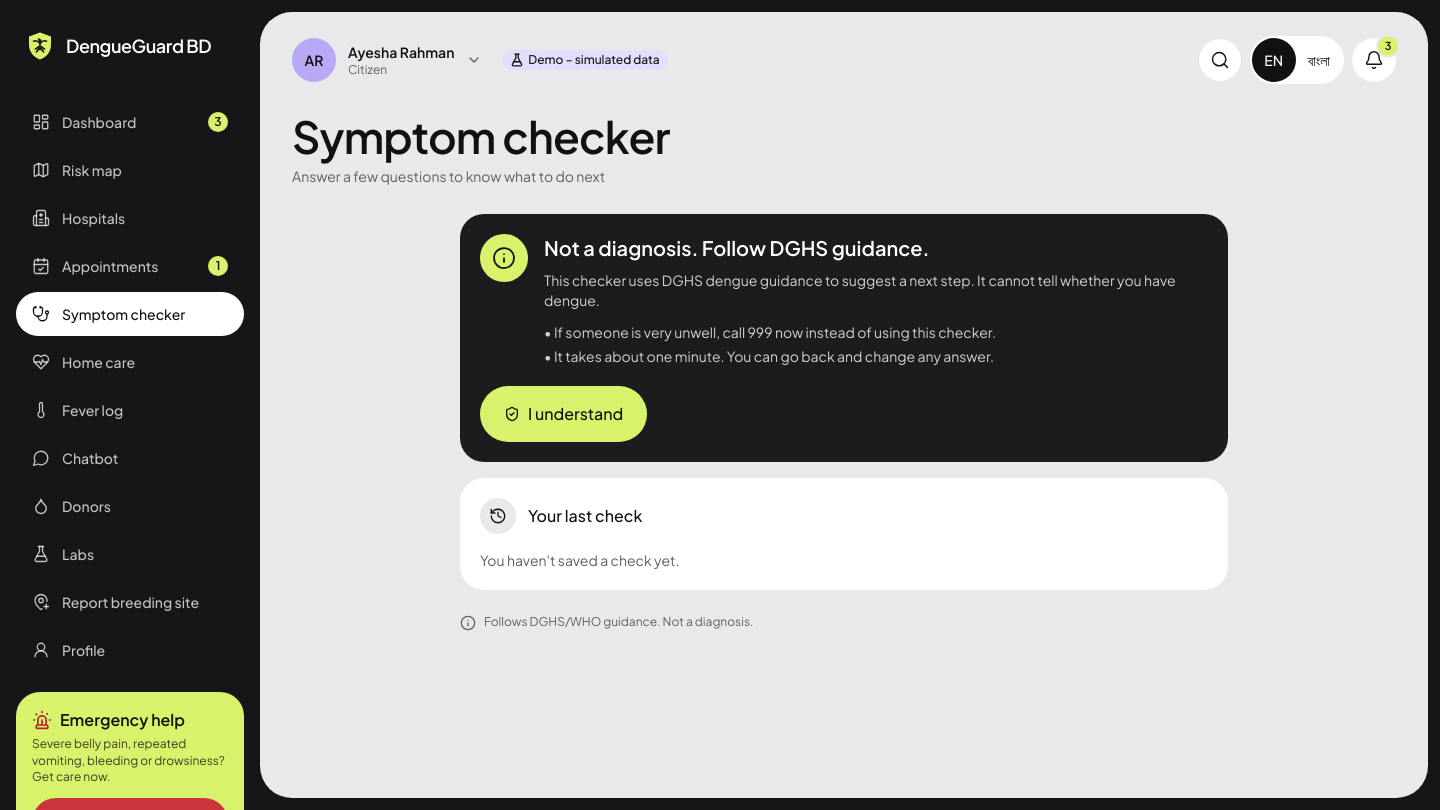
Test: Symptom checker (/symptoms) › starts with the non-diagnosis notice and shows progress with Back
Expected: the heading "Not a diagnosis. Follow DGHS guidance." is shown, [544,235,930,260]
Click the button "I understand" at (564, 414), box [480,386,647,442]
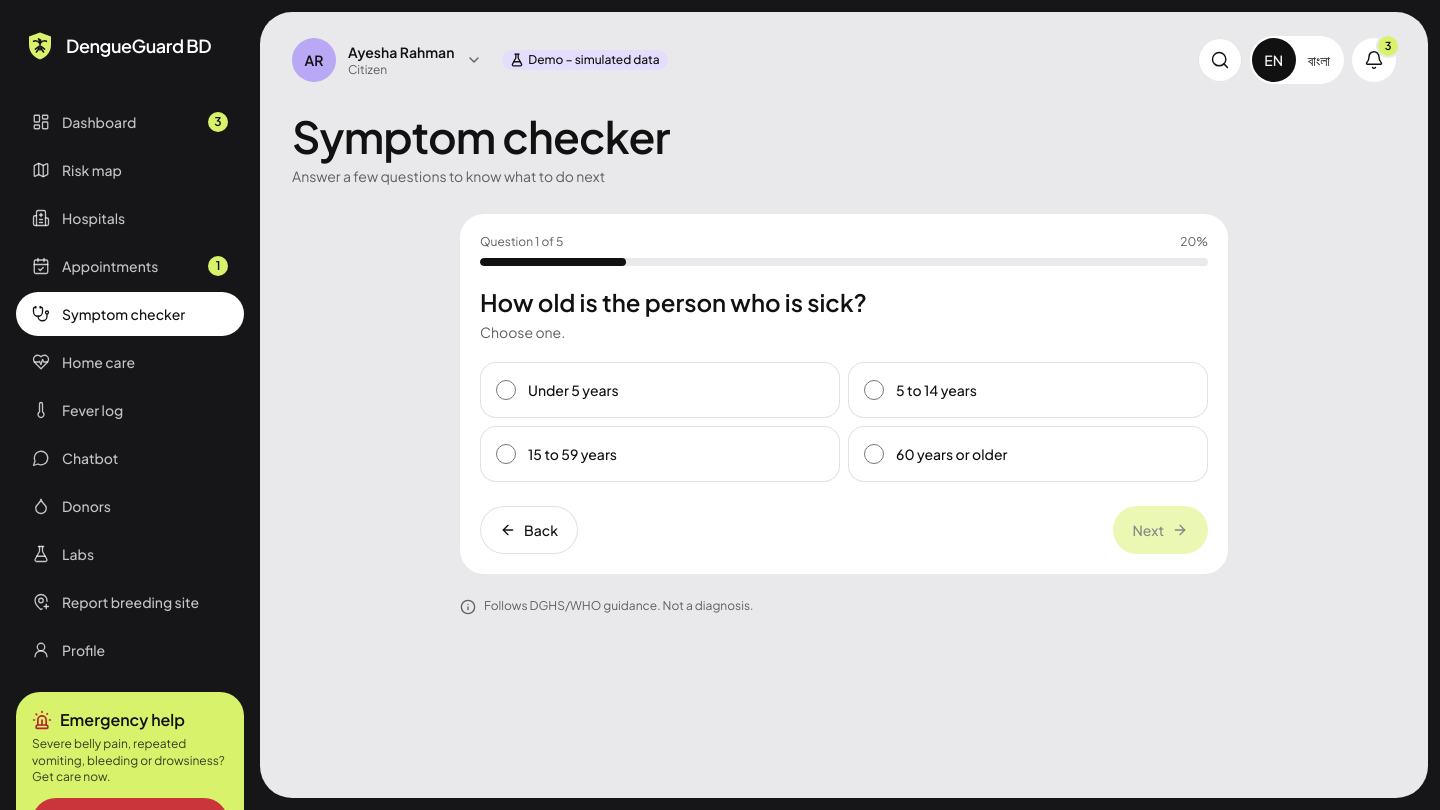
Expected: the button "Next" is disabled, [1112,506,1208,554]
Result: the text "Question 1 of 5" is shown at [480,234,563,250]
Click the radio button labelled "Under 5 years" at (506, 390), box [496,380,516,400]
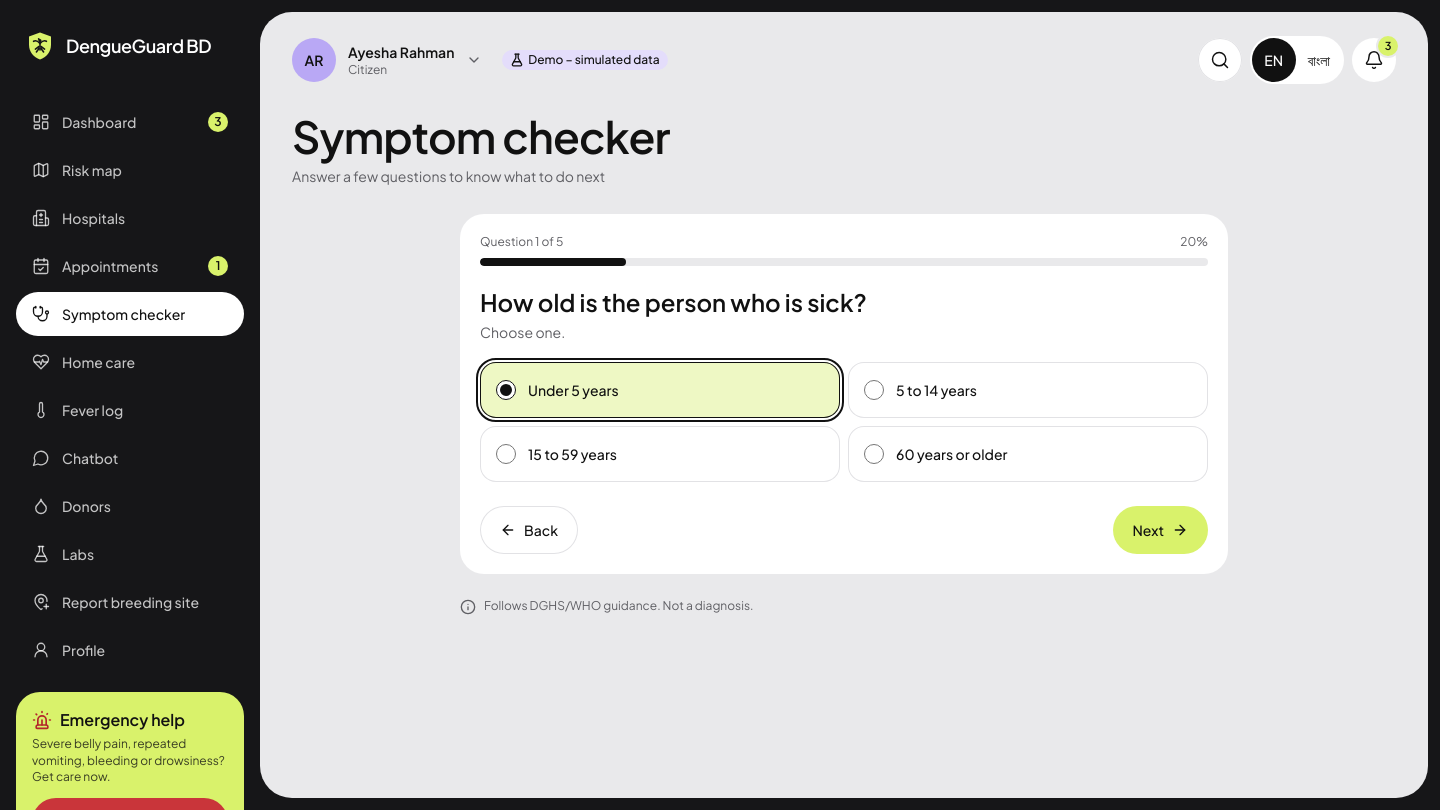
Click the button "Next" at (1160, 530), box [1112,506,1208,554]
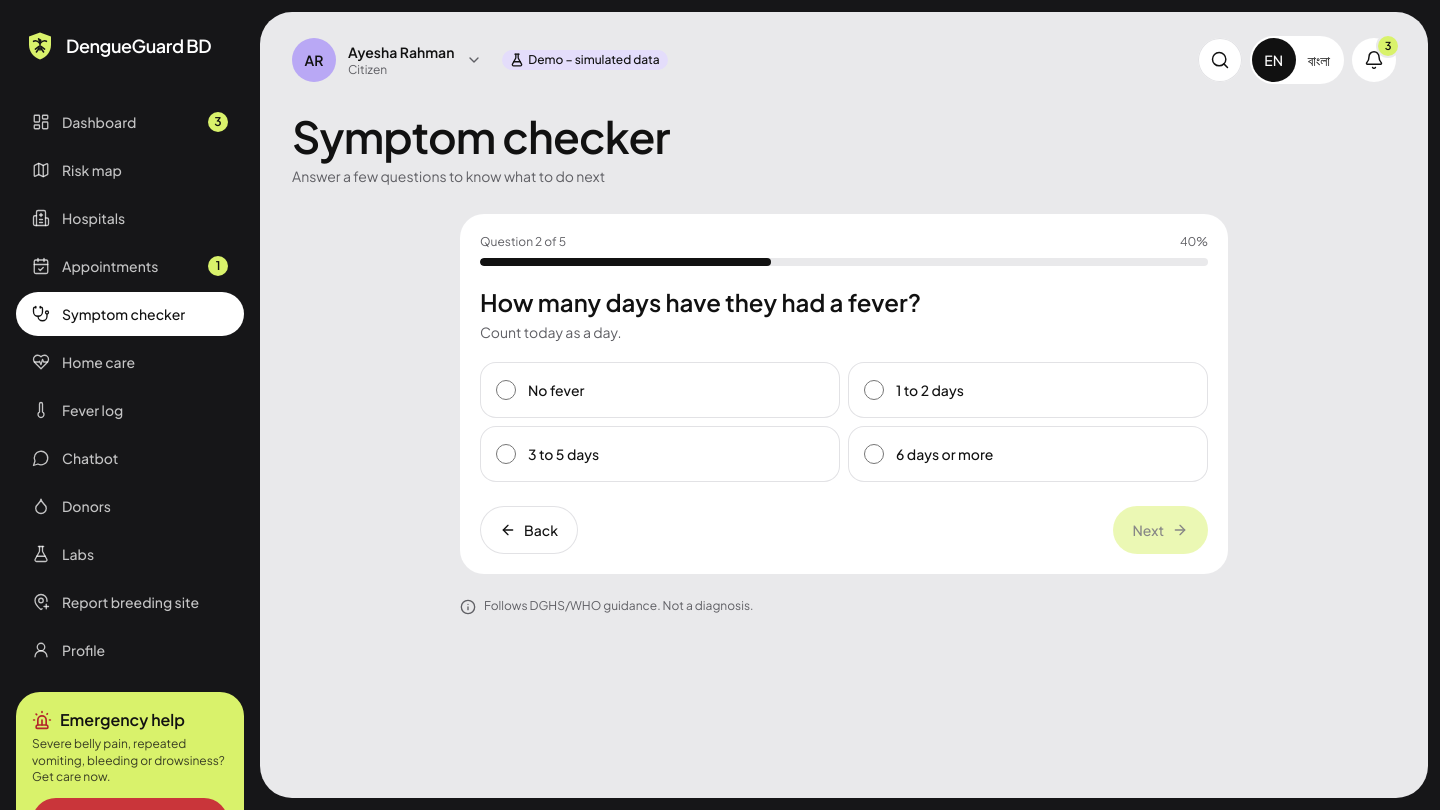
Result: the text "Question 2 of 5" is shown at [480,234,566,250]
Click the button "Back" at (529, 530), box [480,506,578,554]
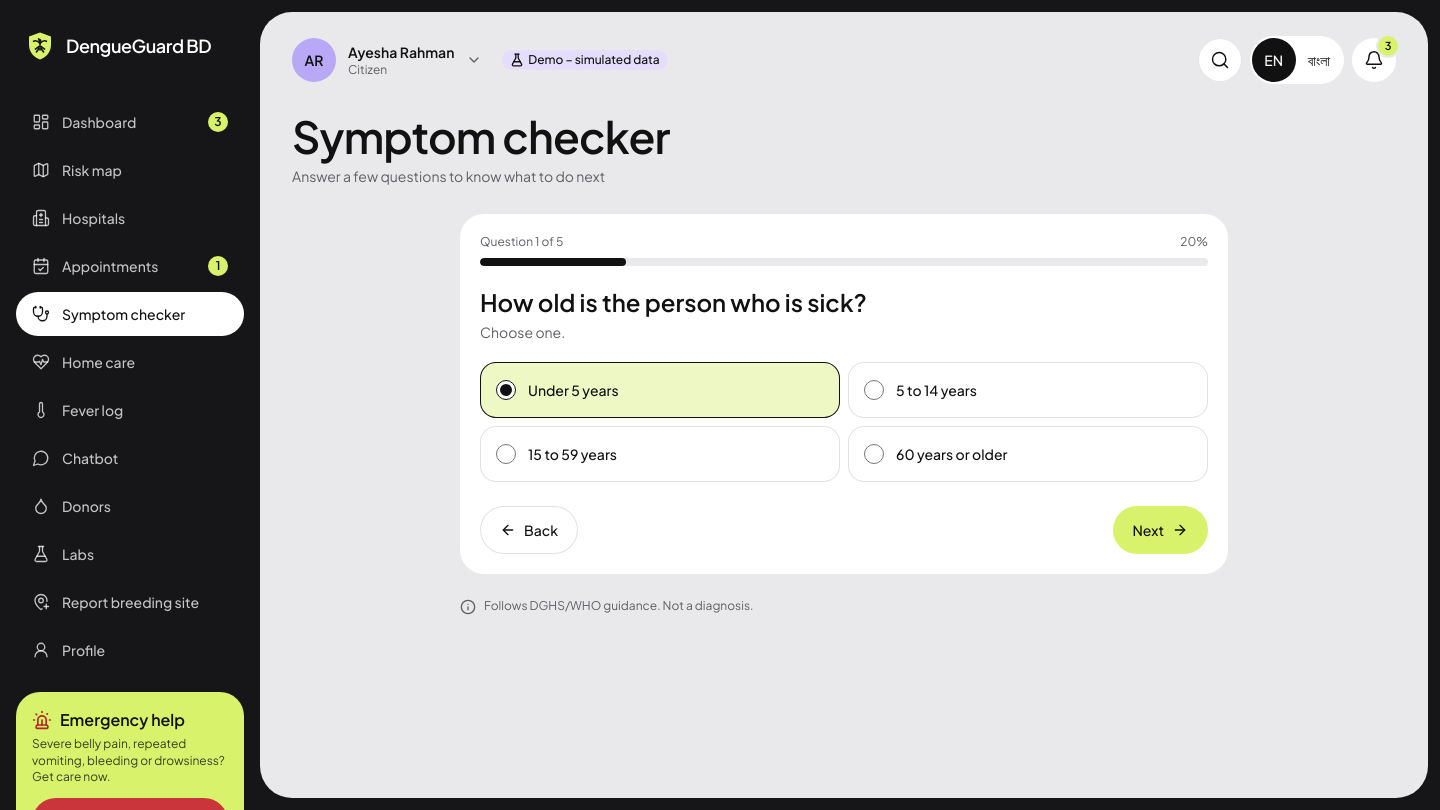
Result: the radio button labelled "Under 5 years" is checked at [496,380,516,400]
